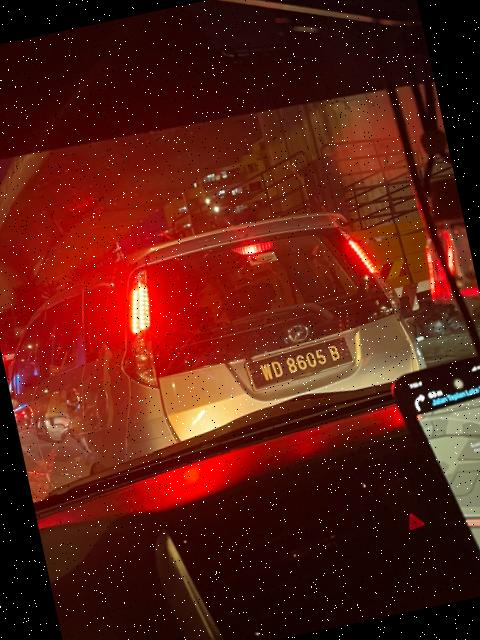License_Plate: (250, 338, 356, 390)
car: (1, 190, 462, 516)
